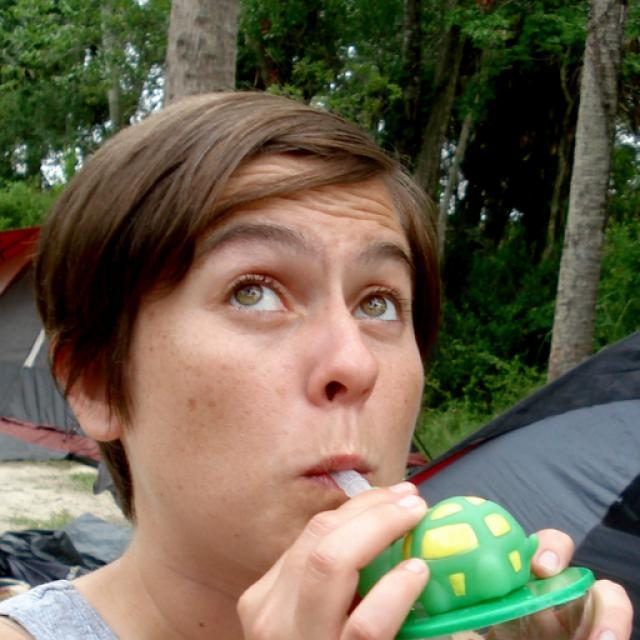surprise: (118, 171, 424, 570)
